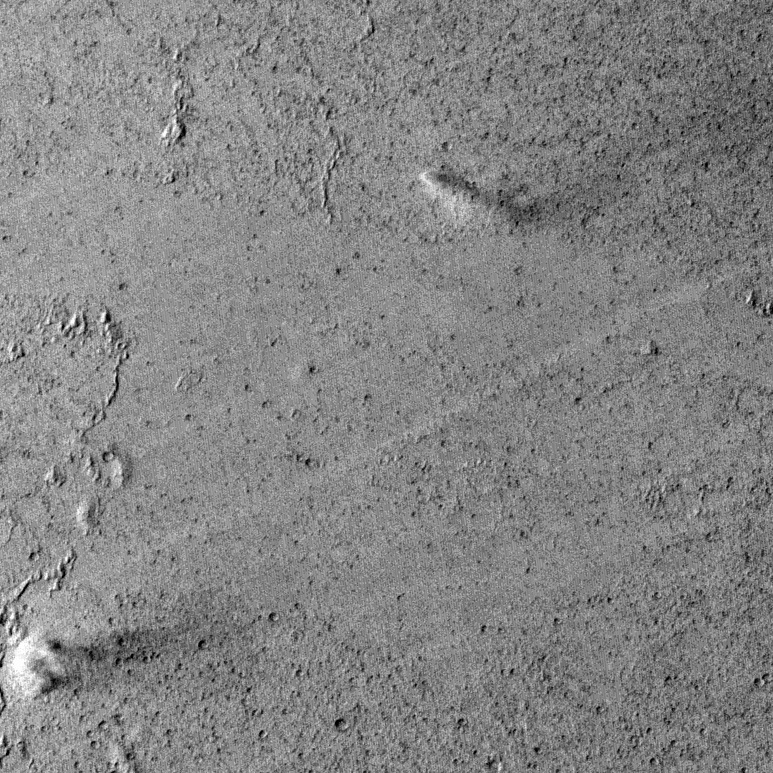dust_devil: (6, 626, 169, 703), (416, 167, 544, 233)
